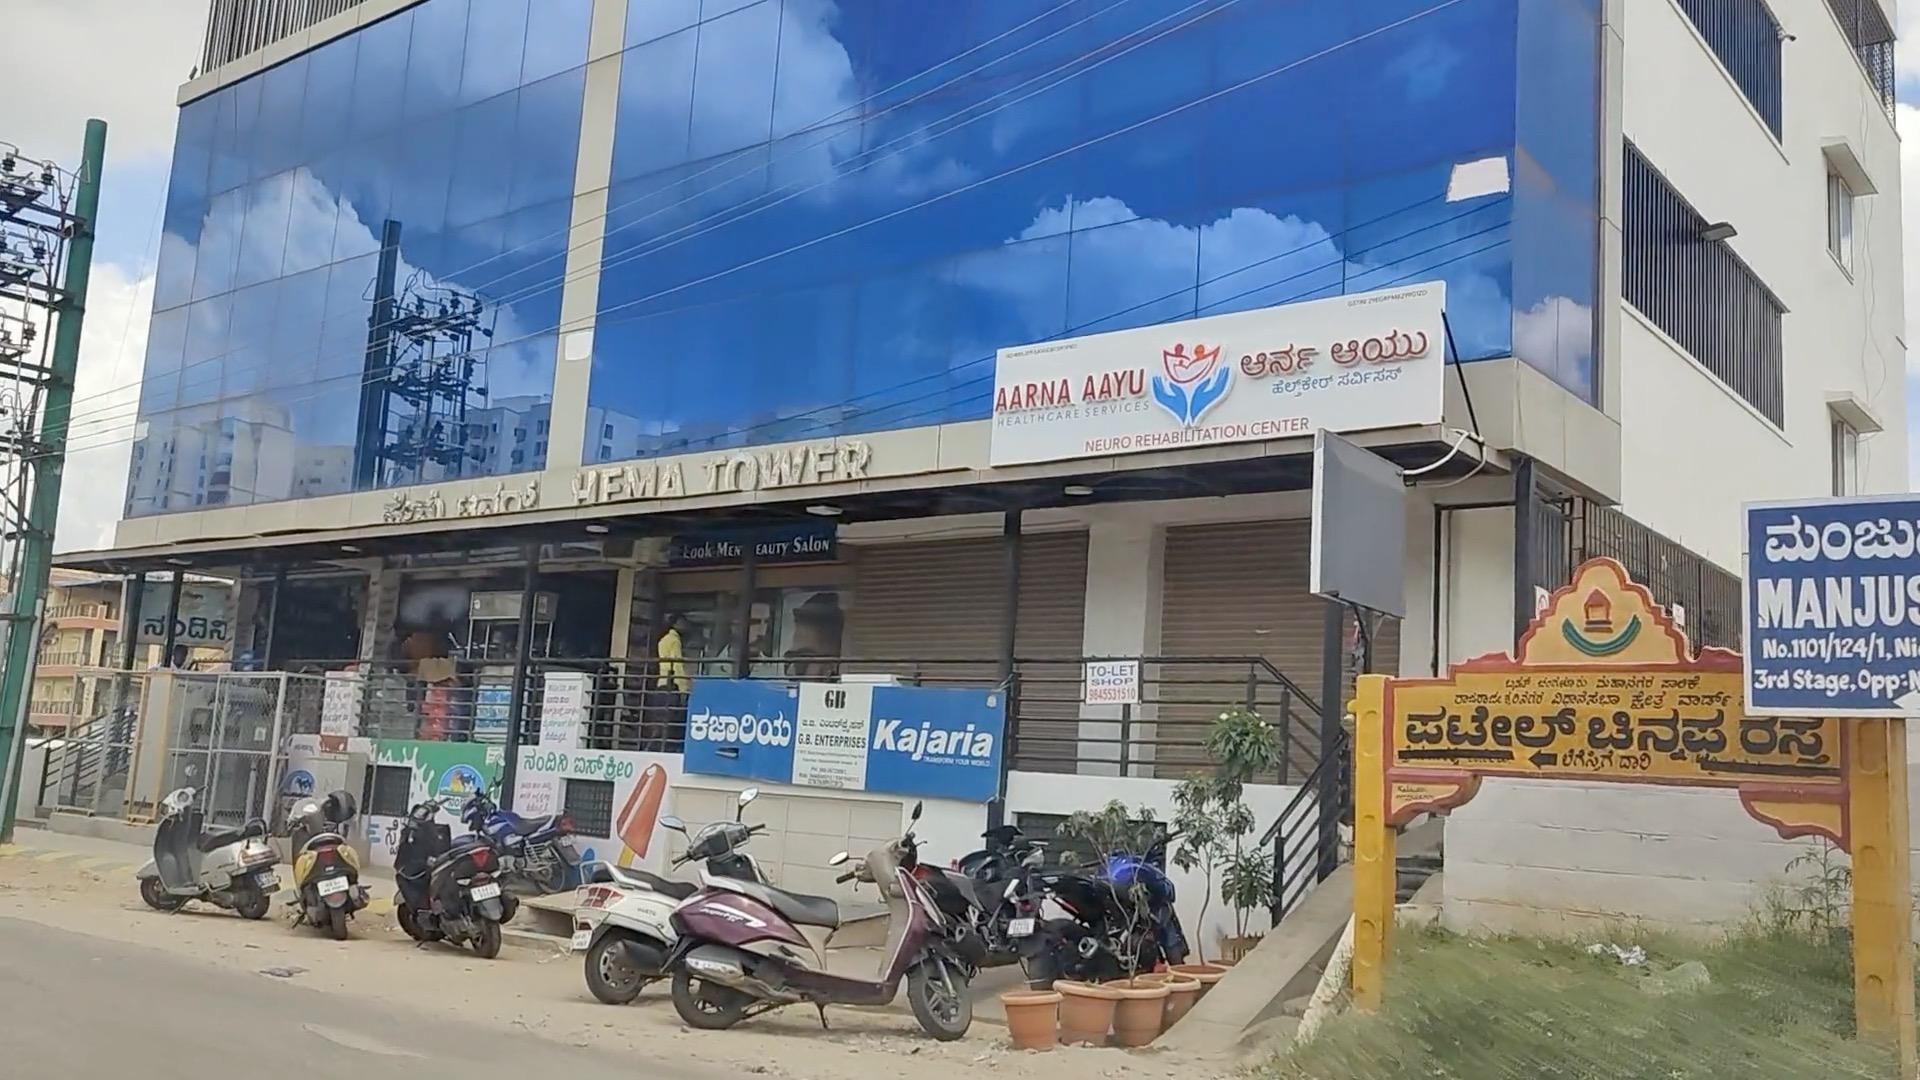LMV: (684, 857, 993, 1033), (396, 767, 597, 943), (115, 778, 277, 924), (287, 795, 368, 935)
RoadDamages: (240, 997, 535, 1080)
